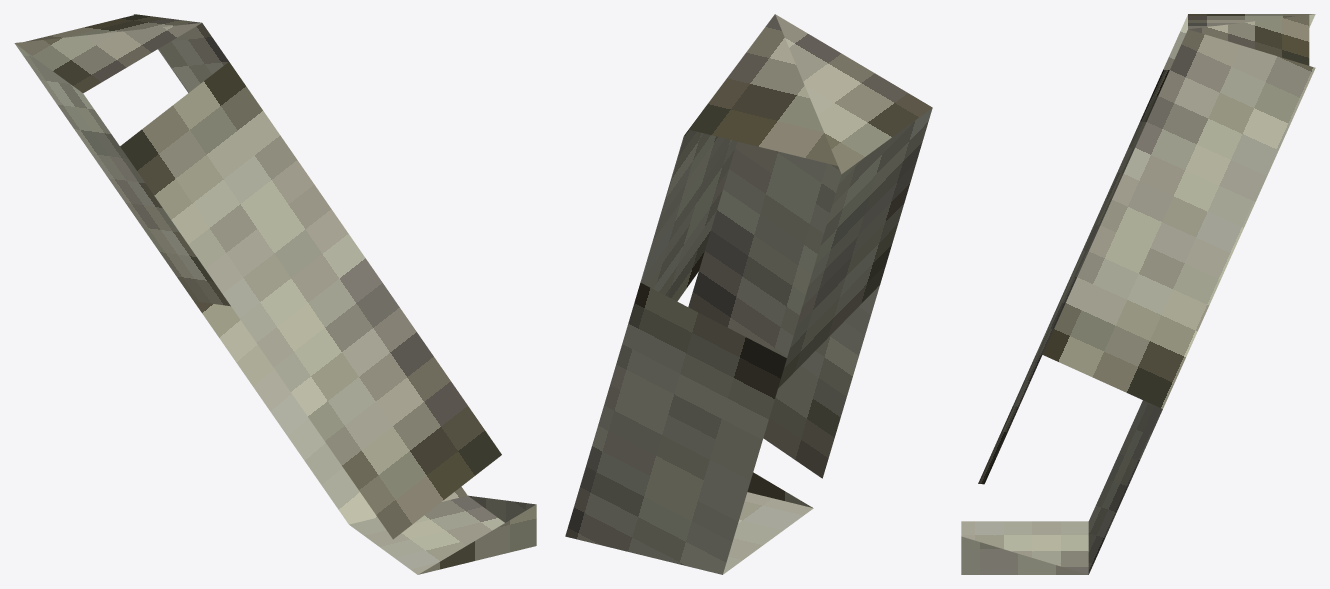
Rendered from birch_branch_22.5_diagonal.obj.
The picture shows the model from 3 angles, left to right: view 1: azimuth 30°, elevation 25°; view 2: azimuth 150°, elevation 25°; view 3: azimuth 270°, elevation 25°; orthographic projection. The views are drawn at different scales.
Parts seen in each view (by area): view 1: cube; view 2: cube; view 3: cube.
Part boxes in pixels (x1,y1,x2,y2): cube: [14, 14, 536, 574]; cube: [565, 14, 932, 574]; cube: [961, 14, 1315, 574].
Bounding box in the file's own units: 1.56 × 2.19 × 1.56.
